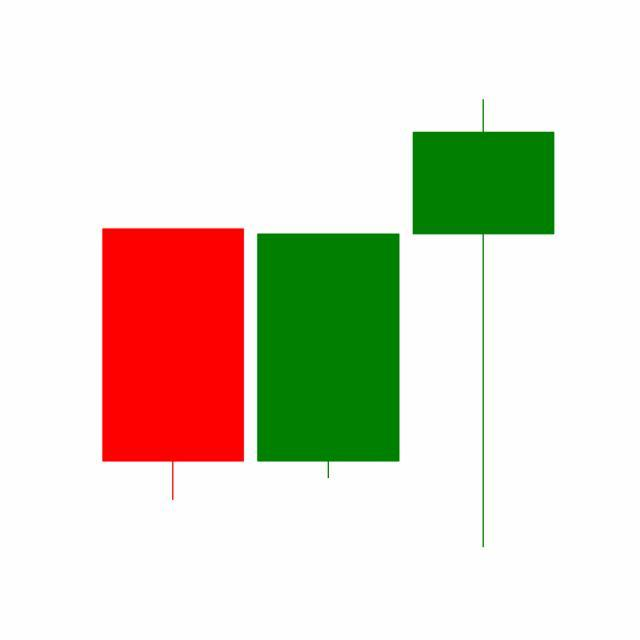Marubozu: (250, 232, 407, 483)
